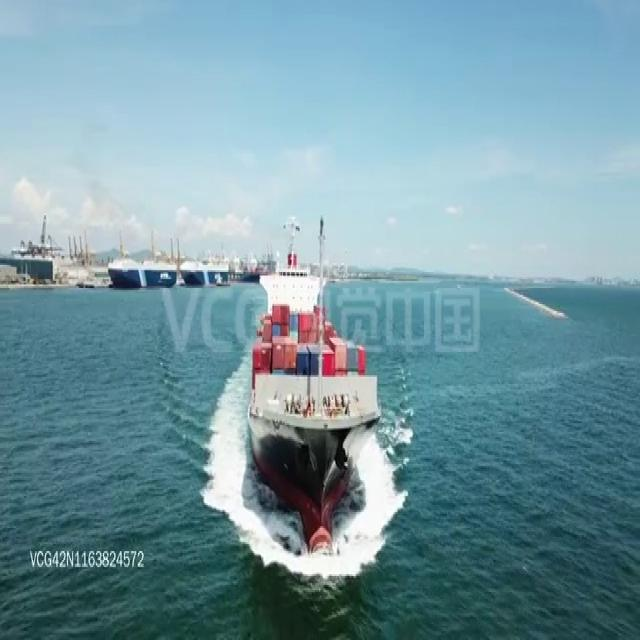cargoship: (242, 210, 381, 558)
